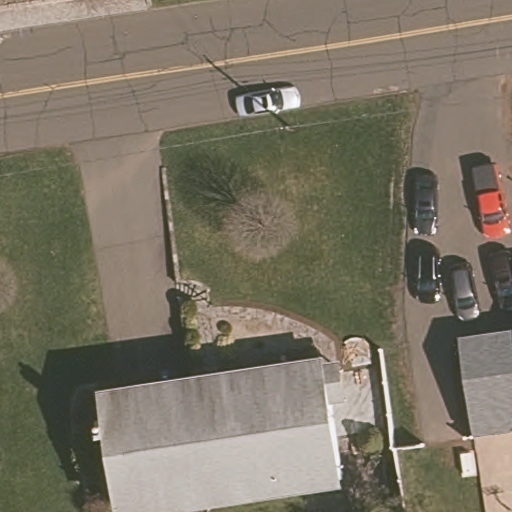DT: (275, 120, 296, 135)
